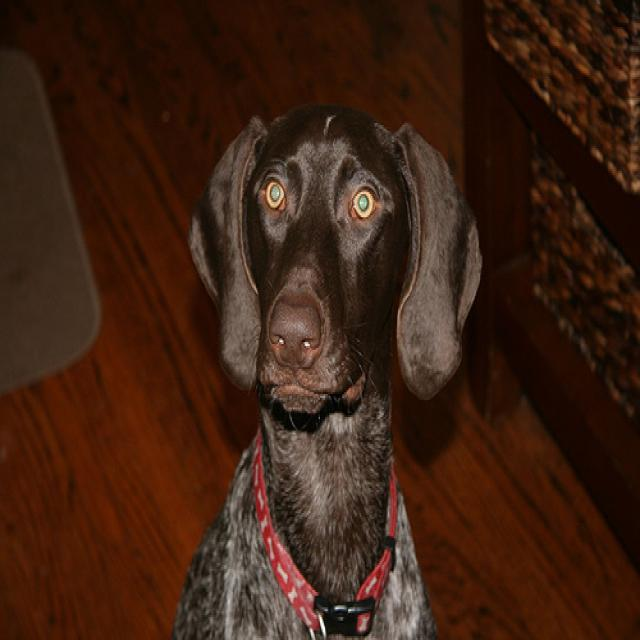dog-german_shorthaired: (165, 102, 490, 636)
